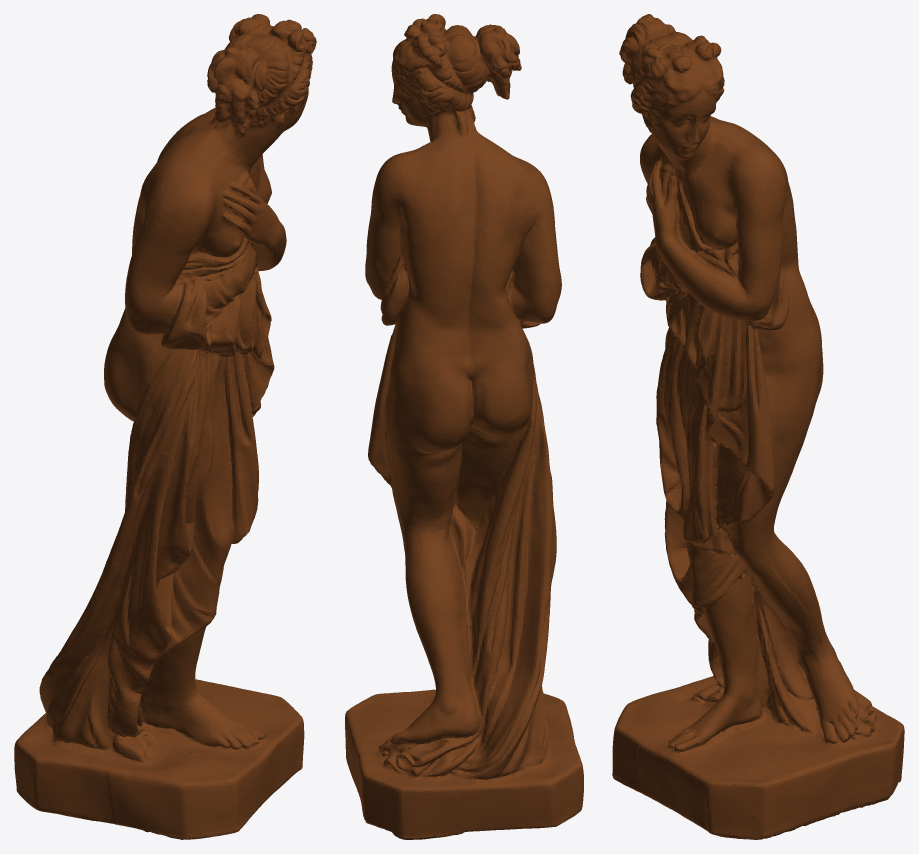
Rendered from bronze-woman.glb.
3 renders of one model, left to right at view 1: azimuth 30°, elevation 25°; view 2: azimuth 150°, elevation 25°; view 3: azimuth 270°, elevation 25°, orthographic. The views are drawn at different scales.
Visible parts, largest first — view 1: bronze-woman | Aged bronze; view 2: bronze-woman | Aged bronze; view 3: bronze-woman | Aged bronze.
Boxes of the visible parts, x1,y1,x2,y2 form: bronze-woman | Aged bronze: (14, 14, 316, 839); bronze-woman | Aged bronze: (345, 14, 583, 839); bronze-woman | Aged bronze: (612, 14, 904, 839).
Bounding box in the file's own units: 0.731 × 2.15 × 0.7333.
1 material, 1 textured.
